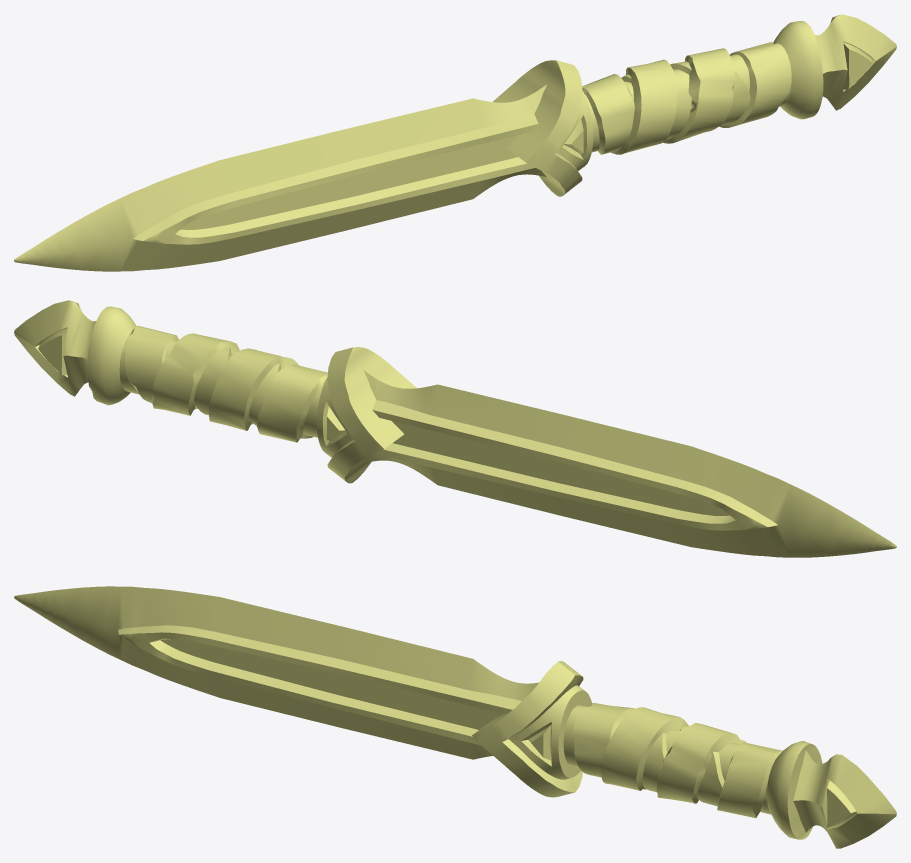
The model's file is SM_Rune_Dagger_3.fbx.
The picture shows the model from 3 angles, top to bottom: view 1: azimuth 30°, elevation 25°; view 2: azimuth 150°, elevation 25°; view 3: azimuth 330°, elevation 25°; orthographic projection.
Parts seen in each view (by area): view 1: SM_Rune_Dagger_3; view 2: SM_Rune_Dagger_3; view 3: SM_Rune_Dagger_3.
Part boxes in pixels (x1,y1,x2,y2): SM_Rune_Dagger_3: (14,14,896,271); SM_Rune_Dagger_3: (14,300,896,557); SM_Rune_Dagger_3: (14,586,896,848).
Size of the model in its own units: 0.6374 by 0.0933 by 0.0693.
